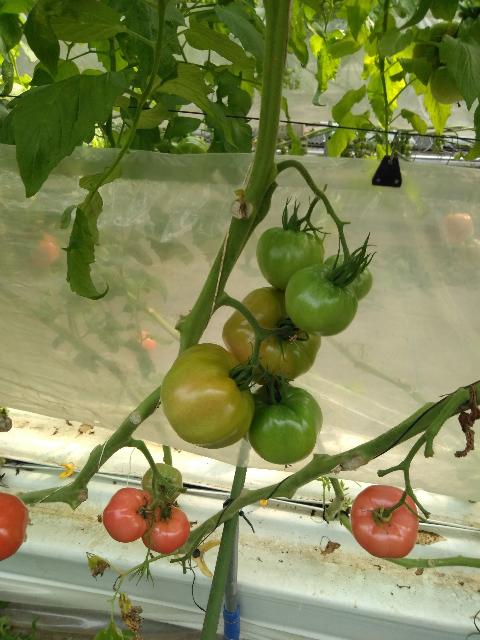b_fully_ripened: (350, 485, 419, 560), (102, 487, 162, 543), (142, 503, 190, 554), (0, 491, 29, 562)
b_green: (242, 382, 324, 465), (284, 262, 358, 336), (256, 227, 325, 291), (323, 254, 373, 302), (141, 463, 182, 504), (430, 65, 465, 105)
b_half_ripened: (160, 343, 255, 449), (222, 286, 321, 385)
